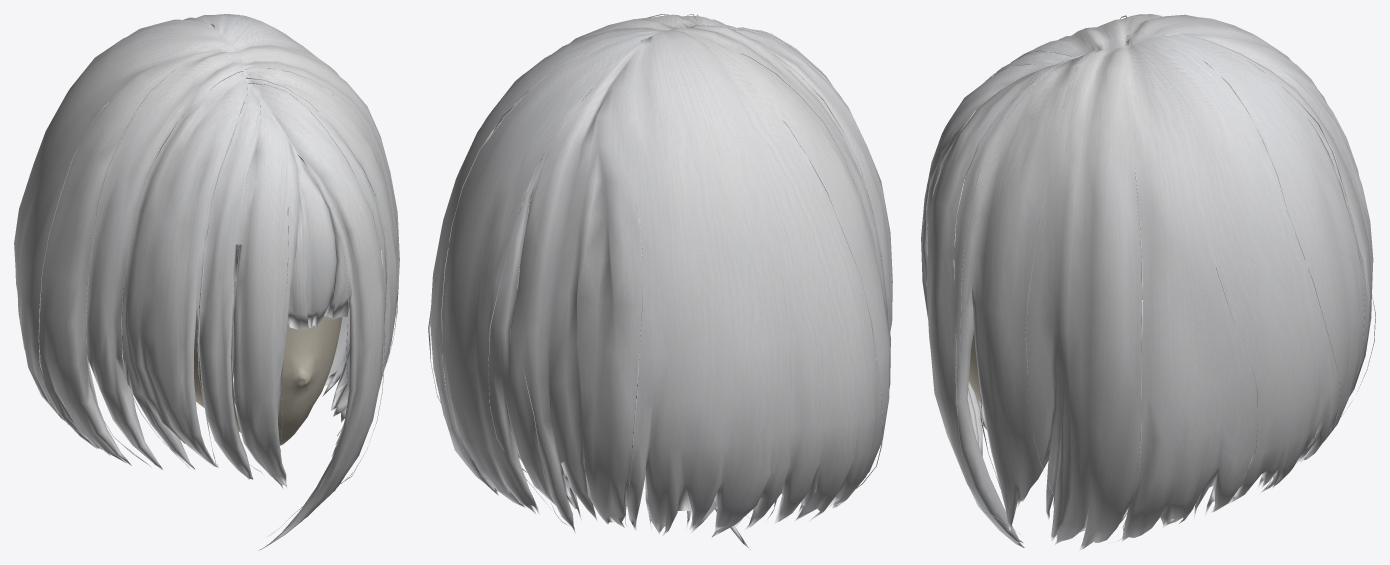
The model's file is hair-5.glb.
3 views of the same model, side by side, from view 1: azimuth 30°, elevation 25°; view 2: azimuth 150°, elevation 25°; view 3: azimuth 270°, elevation 25° (orthographic). The views are drawn at different scales.
Size of the model in its own units: 0.752 by 0.9531 by 0.749.
Materials: 1 (1 with a texture image).
